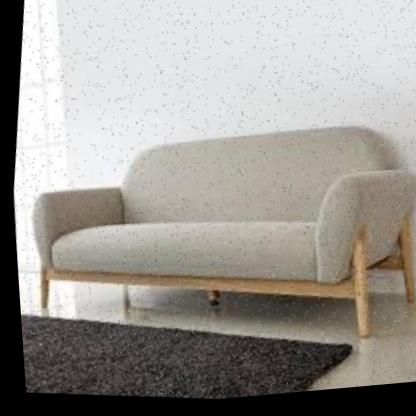Sofa: (4, 53, 416, 410)
